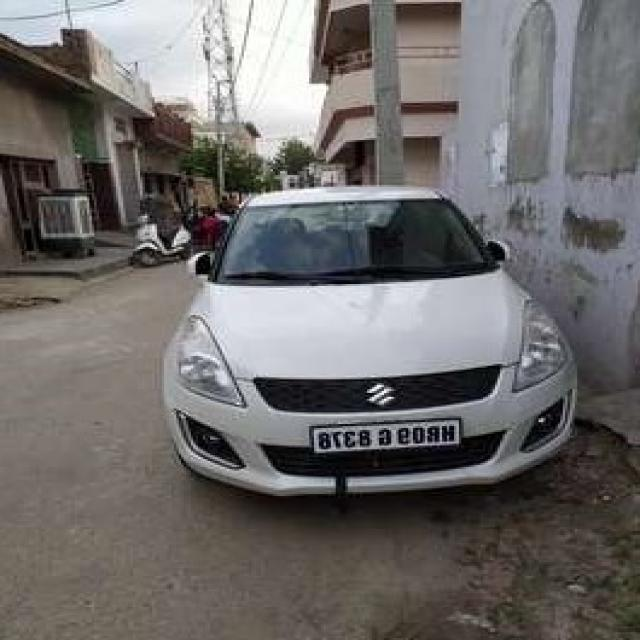license_plate: (308, 413, 465, 459)
